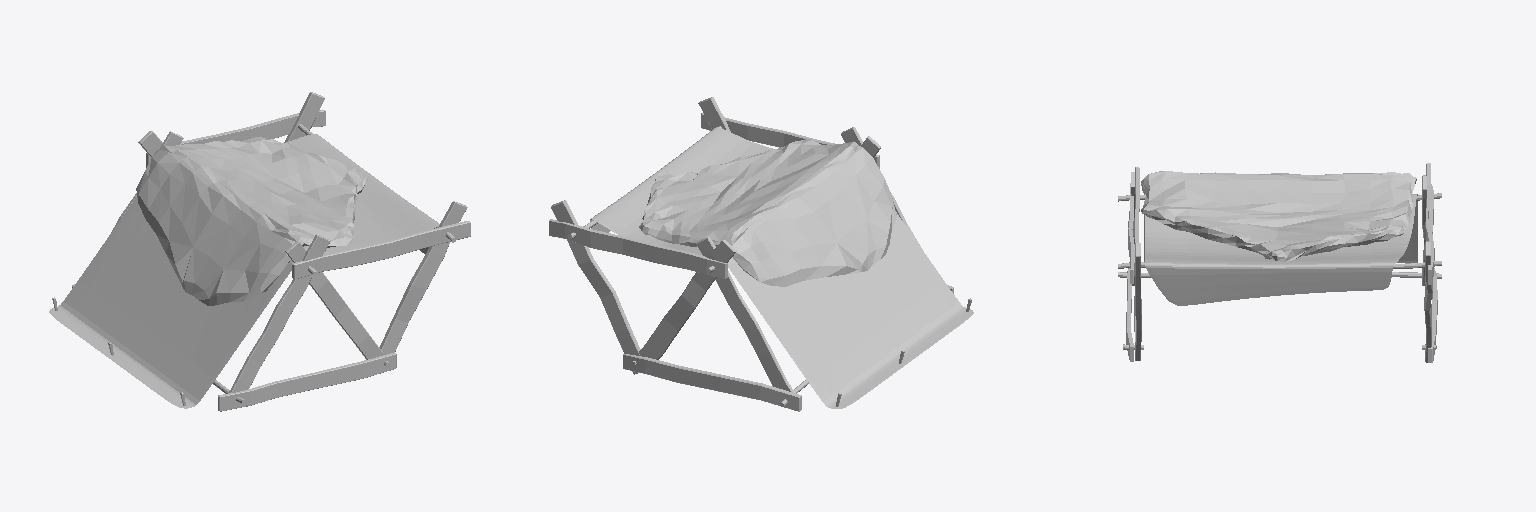
File: lowpoly_viking_tent_006.obj
3 views of the same model, side by side, from view 1: azimuth 30°, elevation 25°; view 2: azimuth 150°, elevation 25°; view 3: azimuth 270°, elevation 25° (orthographic).
Parts seen in each view (by area): view 1: Plane.001, Plane.003, Cube.029, Cube.032, Cube.027, Cube.030, Cube.026, Cube.033, Cube.031; view 2: Plane.001, Plane.003, Cube.033, Cube.024, Cube.031, Cube.025, Cube.028, Cube.032, Cube.030; view 3: Plane.001, Plane.003, Cube.030, Cube.031.
Part boxes in pixels (left/top/right/bottom): Plane.001: left=136, top=137, right=367, bottom=305; Plane.003: left=49, top=134, right=439, bottom=408; Cube.029: left=218, top=352, right=396, bottom=411; Cube.032: left=292, top=221, right=470, bottom=279; Cube.027: left=229, top=234, right=330, bottom=392; Cube.030: left=379, top=201, right=467, bottom=354; Cube.026: left=285, top=240, right=383, bottom=359; Cube.033: left=146, top=110, right=325, bottom=167; Cube.031: left=284, top=92, right=324, bottom=142; Plane.001: left=639, top=139, right=896, bottom=286; Plane.003: left=590, top=127, right=973, bottom=408; Cube.033: left=549, top=219, right=727, bottom=278; Cube.024: left=623, top=354, right=801, bottom=411; Cube.031: left=551, top=200, right=640, bottom=374; Cube.025: left=639, top=239, right=736, bottom=359; Cube.028: left=696, top=237, right=794, bottom=392; Cube.032: left=701, top=113, right=879, bottom=168; Cube.030: left=698, top=97, right=730, bottom=131; Plane.001: left=1141, top=171, right=1416, bottom=261; Plane.003: left=1144, top=194, right=1417, bottom=305; Cube.030: left=1135, top=243, right=1141, bottom=360; Cube.031: left=1424, top=241, right=1432, bottom=362.
Bounding box in the file's own units: 9.12 × 4.73 × 8.92.